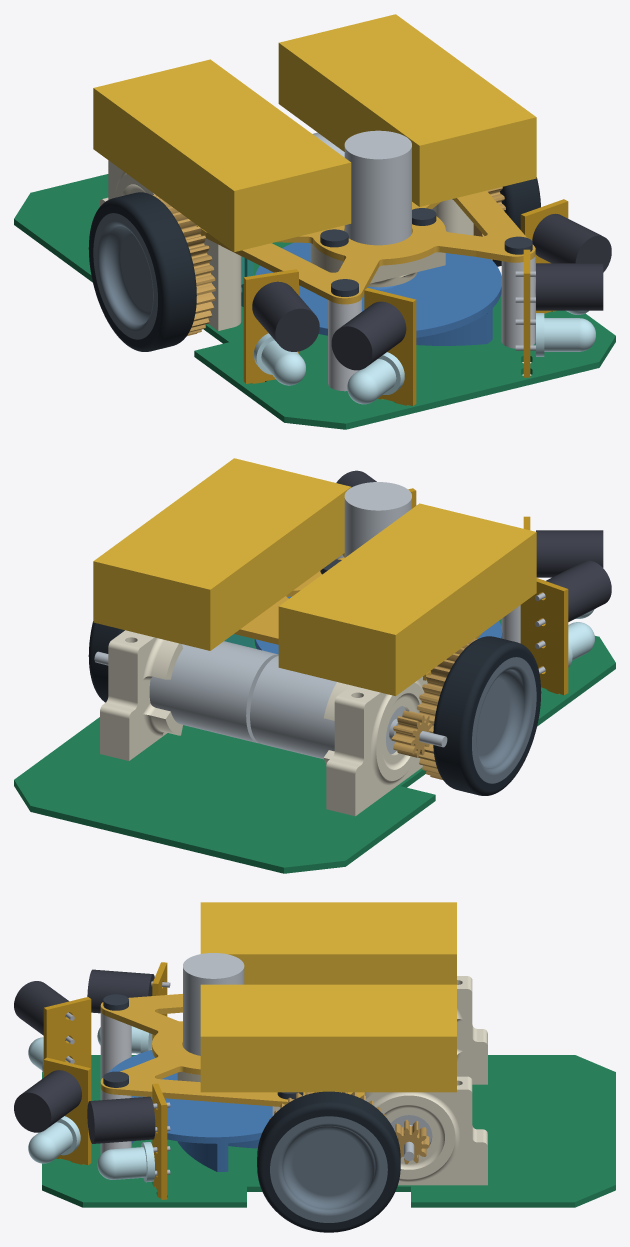
File: assembly-a10.glb
3 views of the same model, one above another, from view 1: azimuth 30°, elevation 25°; view 2: azimuth 150°, elevation 25°; view 3: azimuth 270°, elevation 25° (orthographic). The views are drawn at different scales.
Visible parts, largest first — view 1: 064_battery, 065_battery, 063_pcb, upper_plate, 062_fan, 003_tire, 060_fan_motor, 002_wheel, side_left_ir_receiver, 027_mount, side_right_ir_receiver, front_left_ir_receiver (+14 smaller); view 2: 063_pcb, 064_battery, 065_battery, 027_mount, 030_motor, 003_tire, 059_mount, 000_motor, 002_wheel, front_left_pcb, 060_fan_motor, side_left_ir_receiver (+7 smaller); view 3: 063_pcb, 065_battery, 064_battery, 032_wheel, 059_mount, upper_plate, 033_tire, 062_fan, 060_fan_motor, front_right_ir_receiver, side_left_pcb, side_right_ir_receiver (+11 smaller).
Part boxes in pixels (box(x1,y1,x2,y2)): 064_battery: box(93, 59, 351, 252); 065_battery: box(278, 14, 536, 206); 063_pcb: box(14, 174, 615, 429); upper_plate: box(196, 190, 535, 304); 062_fan: box(255, 242, 501, 345); 003_tire: box(88, 192, 196, 351); 060_fan_motor: box(344, 130, 411, 245); 002_wheel: box(93, 213, 157, 339); side_left_ir_receiver: box(331, 301, 406, 370); 027_mount: box(100, 160, 241, 330); side_right_ir_receiver: box(536, 263, 603, 310); front_left_ir_receiver: box(252, 281, 319, 351); 063_pcb: box(14, 619, 615, 873); 064_battery: box(278, 503, 536, 696); 065_battery: box(93, 458, 351, 650); 027_mount: box(323, 676, 427, 816); 030_motor: box(94, 641, 278, 743); 003_tire: box(433, 636, 541, 795); 059_mount: box(100, 630, 182, 760); 000_motor: box(250, 656, 447, 759); 002_wheel: box(472, 657, 536, 783); front_left_pcb: box(520, 578, 568, 695); 060_fan_motor: box(344, 482, 411, 557); side_left_ir_receiver: box(536, 530, 603, 577); 063_pcb: box(42, 1055, 615, 1207); 065_battery: box(200, 984, 456, 1092); 064_battery: box(200, 902, 456, 984); 032_wheel: box(270, 1116, 387, 1222); 059_mount: box(272, 1076, 487, 1185); upper_plate: box(100, 994, 364, 1106); 033_tire: box(257, 1091, 400, 1232); 062_fan: box(108, 1050, 272, 1171); 060_fan_motor: box(183, 953, 244, 1055); front_right_ir_receiver: box(87, 1096, 155, 1143); side_left_pcb: box(43, 997, 91, 1068); side_right_ir_receiver: box(14, 1070, 81, 1132).
Size of the model in its own units: 38.8 by 19.88 by 58.72.
